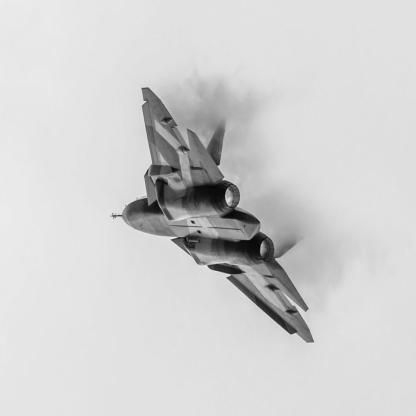Su57: (111, 89, 315, 345)
